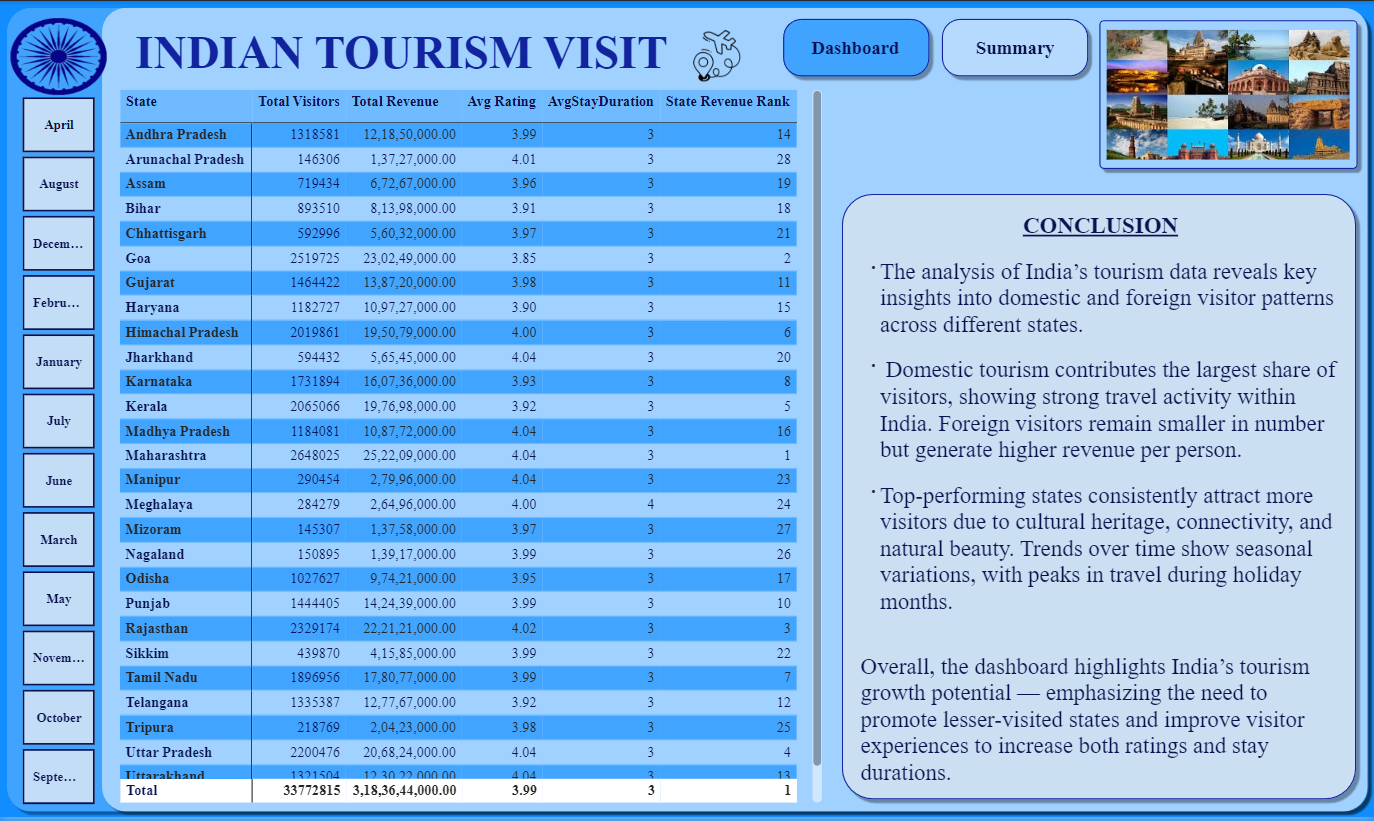

The page's visual inventory and layout, read from the dashboard file:
{"tool":"powerbi","page":{"name":"Summary","canvas":[1282,761],"ordinal":1},"visuals":[{"type":"shape","box":[1.3,0,1281,761.3],"z":0},{"type":"shape","box":[89.9,0,1191.6,761.2],"z":1000},{"type":"textbox","box":[122.3,19.2,521.5,65.9],"z":2000},{"type":"shape","box":[1019,12,252.9,151],"z":3000},{"type":"image","box":[1027.4,21.6,236.2,130.7],"z":4000},{"type":"image","box":[618.6,19.2,109.1,64.7],"z":5000},{"type":"shape","box":[872.7,10.8,148.7,65.9],"z":6000},{"type":"shape","box":[724.1,10.8,148.7,65.9],"z":7000},{"type":"pageNavigator","box":[730.1,12,285.3,65.9],"z":8000},{"type":"image","box":[2.2,7.7,106.2,87.6],"z":10000},{"type":"pivotTable","fields":{"Rows":["Data.State"],"Values":["Data.Total Visitors","Data.Total Revenue","Data.Avg Rating","Data.AvgStayDuration","Data.State Revenue Rank"]},"box":[108.4,77.8,663.7,673.6],"z":11000},{"type":"shape","box":[779.7,173.7,491.5,576.5],"z":12000},{"type":"textbox","box":[798.2,192.2,457,546.9],"z":13000},{"type":"slicer","fields":{"Values":["Calendar.Month Name"]},"box":[1.1,87.6,107.3,662.6],"z":14000}]}

Visuals, with their boxes in screenshot pixels (x1, y1, x2, y2), scaled from the page's 1282x761 canvas onto the 1374x821 screenshot:
shape: (x1=1, y1=0, x2=1373, y2=820)
shape: (x1=96, y1=0, x2=1373, y2=820)
textbox: (x1=131, y1=21, x2=690, y2=92)
shape: (x1=1092, y1=13, x2=1363, y2=176)
image: (x1=1101, y1=23, x2=1354, y2=164)
image: (x1=663, y1=21, x2=780, y2=91)
shape: (x1=935, y1=12, x2=1095, y2=83)
shape: (x1=776, y1=12, x2=935, y2=83)
pageNavigator: (x1=782, y1=13, x2=1088, y2=84)
image: (x1=2, y1=8, x2=116, y2=103)
pivotTable - Data.State x Data.Total Visitors: (x1=116, y1=84, x2=828, y2=811)
shape: (x1=836, y1=187, x2=1362, y2=809)
textbox: (x1=855, y1=207, x2=1345, y2=797)
slicer - Calendar.Month Name: (x1=1, y1=95, x2=116, y2=809)
